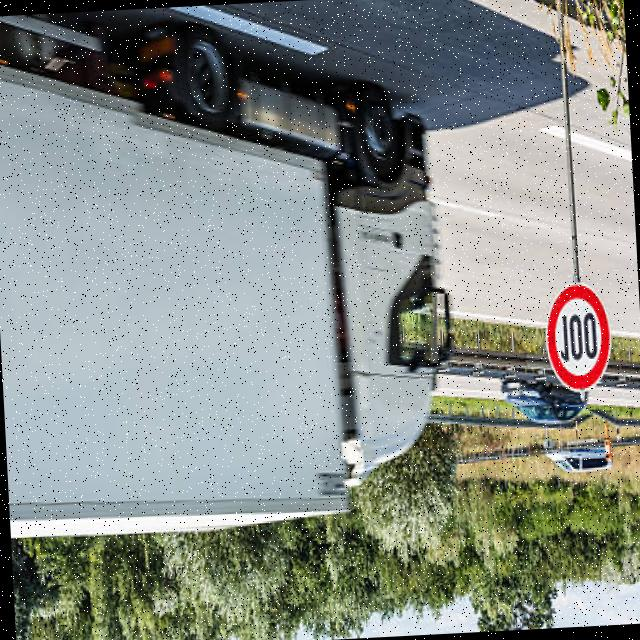speed_limit_100: (535, 266, 630, 396)
